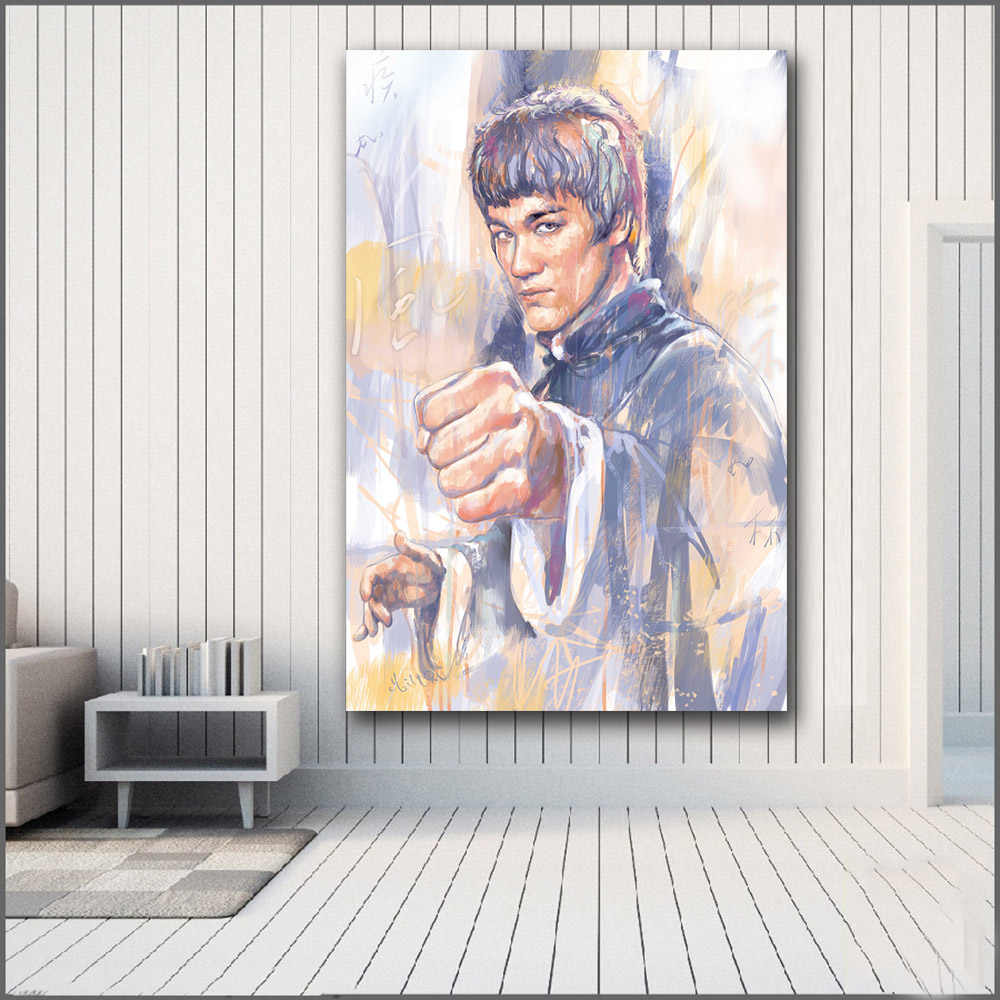lukisan: (314, 33, 828, 742)
